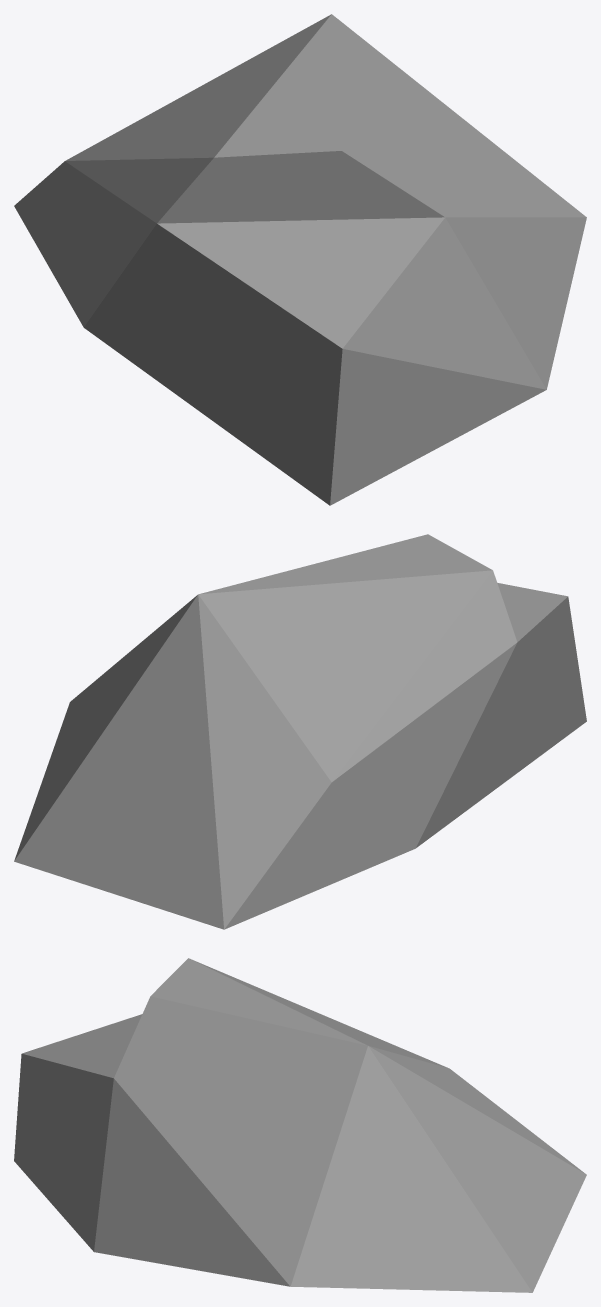
File: stones_022.glb
3 renders of one model, top to bottom at view 1: azimuth 30°, elevation 25°; view 2: azimuth 150°, elevation 25°; view 3: azimuth 270°, elevation 25°, orthographic. The views are drawn at different scales.
Parts seen in each view (by area): view 1: stones_022; view 2: stones_022; view 3: stones_022.
Part boxes in pixels (bbox=[...]): stones_022: bbox=[14, 14, 586, 505]; stones_022: bbox=[14, 534, 586, 929]; stones_022: bbox=[14, 958, 586, 1292].
Size of the model in its own units: 2.27 by 1.21 by 3.05.
1 material, 1 textured.
